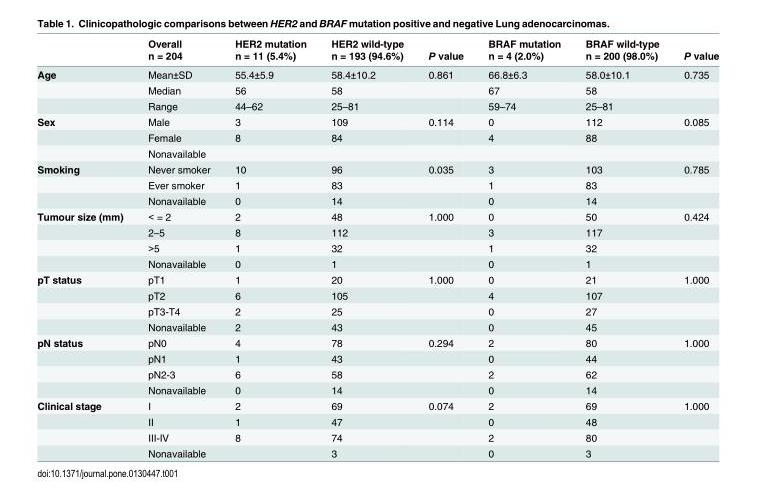table: (36, 37, 718, 458)
table column: (36, 37, 134, 458), (572, 37, 670, 458), (221, 37, 318, 458), (318, 37, 415, 458), (475, 37, 572, 458), (134, 37, 221, 458), (415, 37, 475, 458), (670, 37, 718, 458)
table column header: (36, 37, 718, 64)
table row: (36, 64, 718, 82), (36, 48, 718, 64), (36, 97, 718, 113), (36, 113, 718, 129), (36, 129, 718, 145), (36, 160, 718, 176), (36, 176, 718, 192), (36, 192, 718, 208), (36, 208, 718, 224), (36, 239, 718, 255), (36, 255, 718, 271), (36, 271, 718, 287), (36, 302, 718, 318), (36, 318, 718, 334), (36, 334, 718, 350), (36, 350, 718, 366), (36, 381, 718, 397), (36, 397, 718, 413), (36, 413, 718, 429), (36, 429, 718, 445), (36, 82, 718, 97), (36, 145, 718, 160), (36, 224, 718, 239), (36, 287, 718, 302), (36, 366, 718, 381), (36, 445, 718, 458), (36, 37, 718, 48)
table spanning cell: (36, 208, 134, 271), (36, 271, 134, 334), (36, 334, 134, 397), (36, 397, 134, 458), (36, 64, 134, 113), (36, 160, 134, 208), (36, 113, 134, 160), (572, 37, 670, 64), (221, 37, 318, 64), (318, 37, 415, 64), (475, 37, 572, 64), (134, 37, 221, 64), (415, 37, 475, 64), (670, 37, 718, 64)
